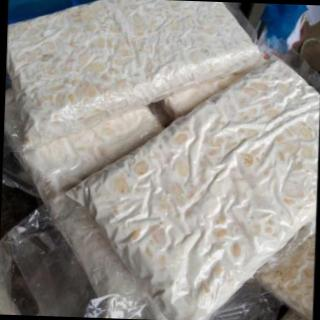Tempe: (2, 1, 266, 161)
